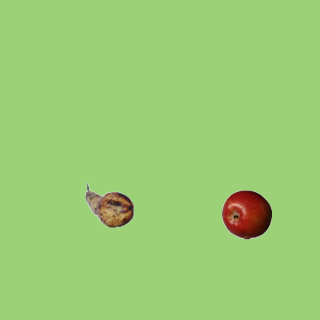Apple Braeburn: (221, 189, 271, 239)
Pear Abate: (84, 180, 134, 230)
